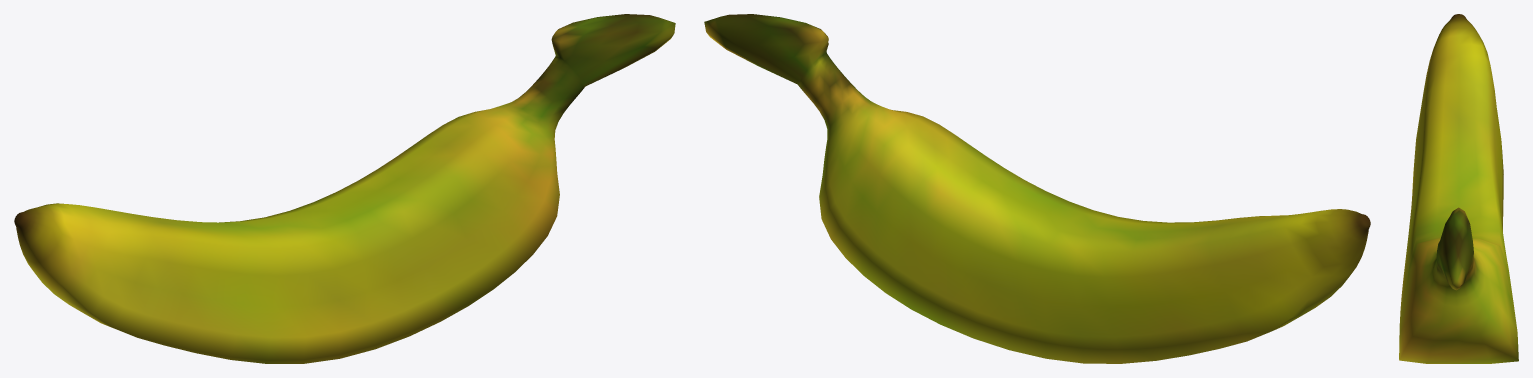
File: banana.glb
3 renders of one model, left to right at view 1: azimuth 30°, elevation 25°; view 2: azimuth 150°, elevation 25°; view 3: azimuth 270°, elevation 25°, orthographic. The views are drawn at different scales.
Visible parts, largest first — view 1: Cube; view 2: Cube; view 3: Cube.
Part boxes in pixels (x1=…): Cube: x1=14, y1=14, x2=675, y2=363; Cube: x1=704, y1=14, x2=1370, y2=363; Cube: x1=1399, y1=14, x2=1518, y2=363.
Size of the model in its own units: 14.4 by 5.23 by 2.45.
